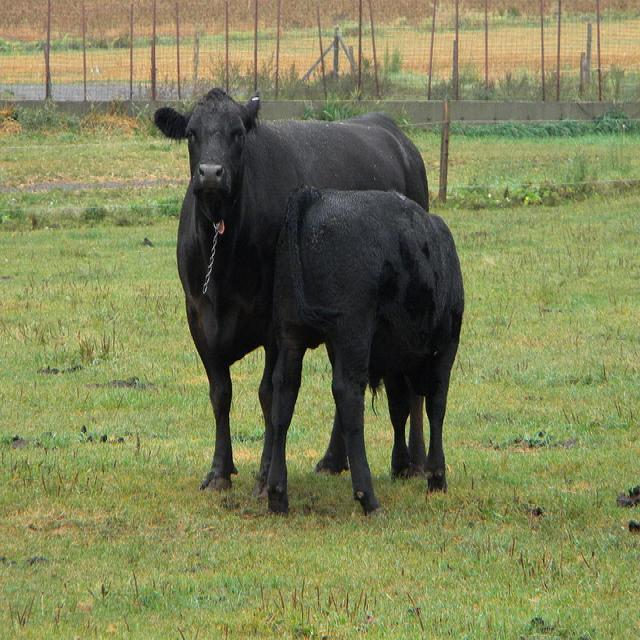cow: (155, 85, 428, 491), (265, 185, 464, 512)
